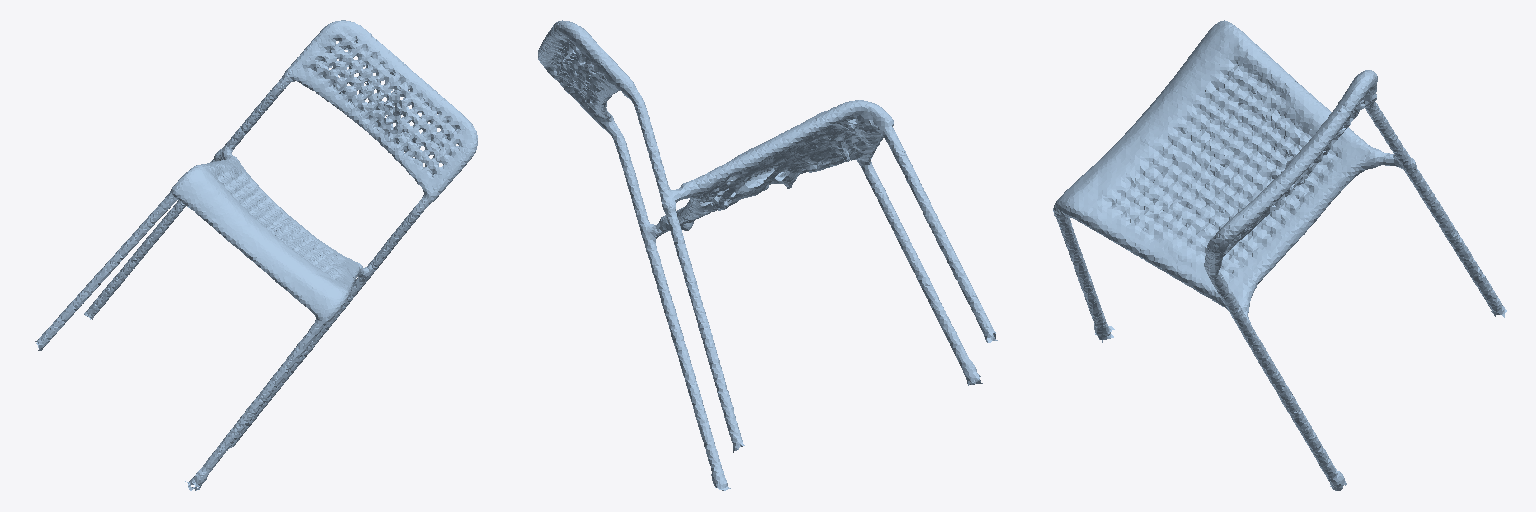
robot.urdf — sugarchair:
<?xml version="1.0" ?>
<robot name="sugarchair">
  <dynamics damping="0.5" friction="0.9"/>
  <link name="baseLink">
    <inertial>
      <mass value="0.1"/>
      <origin xyz="0 0 0"/>
      <inertia ixx="0.002" ixy="0" ixz="0" iyy="0.002" iyz="0" izz="0.002"/>
    </inertial>
    <contact>
      <lateral_friction value="0.9"/>
      <rolling_friction value="0.5"/>
      <stiffness value="30000"/>
      <damping value="1000"/>
    </contact>
    <visual>
      <origin rpy="0 0 0" xyz="0 0 0"/>
      <geometry>
        <mesh filename="objects/sugarchair/sugarchair.obj" scale="1.0 1.0 1.0"/>
      </geometry>
      <material name="mat">
        <color rgba="0.7 0.8 0.9 1"/>
      </material>
    </visual>
    <collision>
      <origin rpy="0 0 0" xyz="0 0 0"/>
      <geometry>
        <mesh filename="objects/sugarchair/sugarchair.obj" scale="1.0 1.0 1.0"/>
      </geometry>
    </collision>
  </link>
</robot>

--- Facts derived from the render (not from the file) ---
Views: 3 orthographic renders of the robot side by side, from view 1: azimuth 30°, elevation 25°; view 2: azimuth 150°, elevation 25°; view 3: azimuth 270°, elevation 25°.
Robot: sugarchair — 1 links, 0 joints (none); root link baseLink; default pose: all joints at 0.
Visible links, largest first — view 1: baseLink; view 2: baseLink; view 3: baseLink.
Boxes of the visible links, x1,y1,x2,y2 form: baseLink: [35, 20, 477, 490]; baseLink: [538, 20, 997, 490]; baseLink: [1053, 20, 1506, 490].
Bounding box of the posed robot: 0.9256 × 0.6842 × 0.8167 m (x, y, z).
1 mesh visuals loaded from 1 distinct referenced files (1 OBJ).
